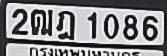0: (103, 13, 118, 38)
1: (87, 10, 95, 38)
2: (10, 7, 26, 34)
6: (142, 15, 157, 40)
8: (122, 14, 137, 39)
A14: (55, 10, 74, 39)
A18: (30, 8, 52, 34)
